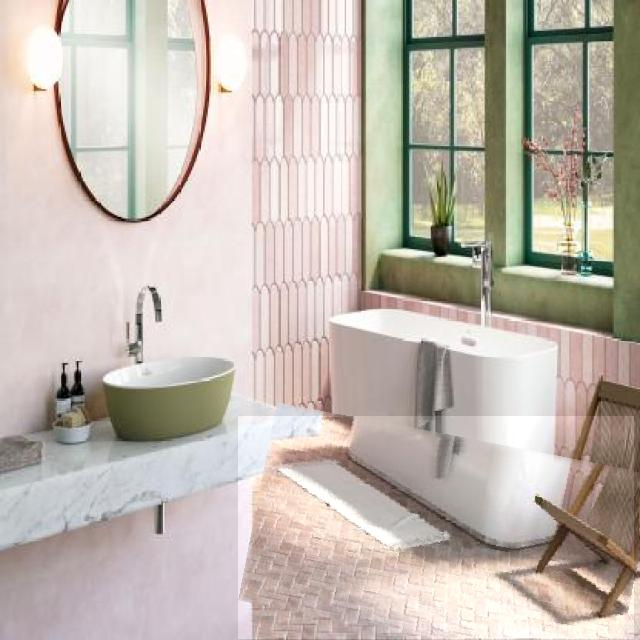floor: (238, 416, 634, 639)
